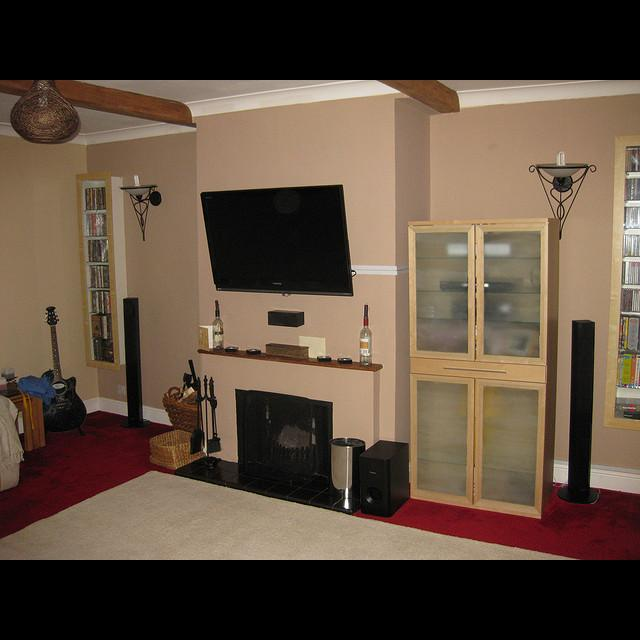Flat-Panel-TV: (197, 179, 360, 301)
